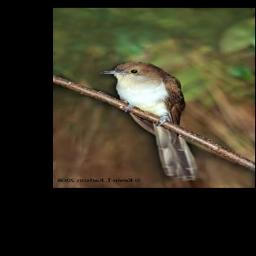Cuckoo: (102, 60, 199, 180)
